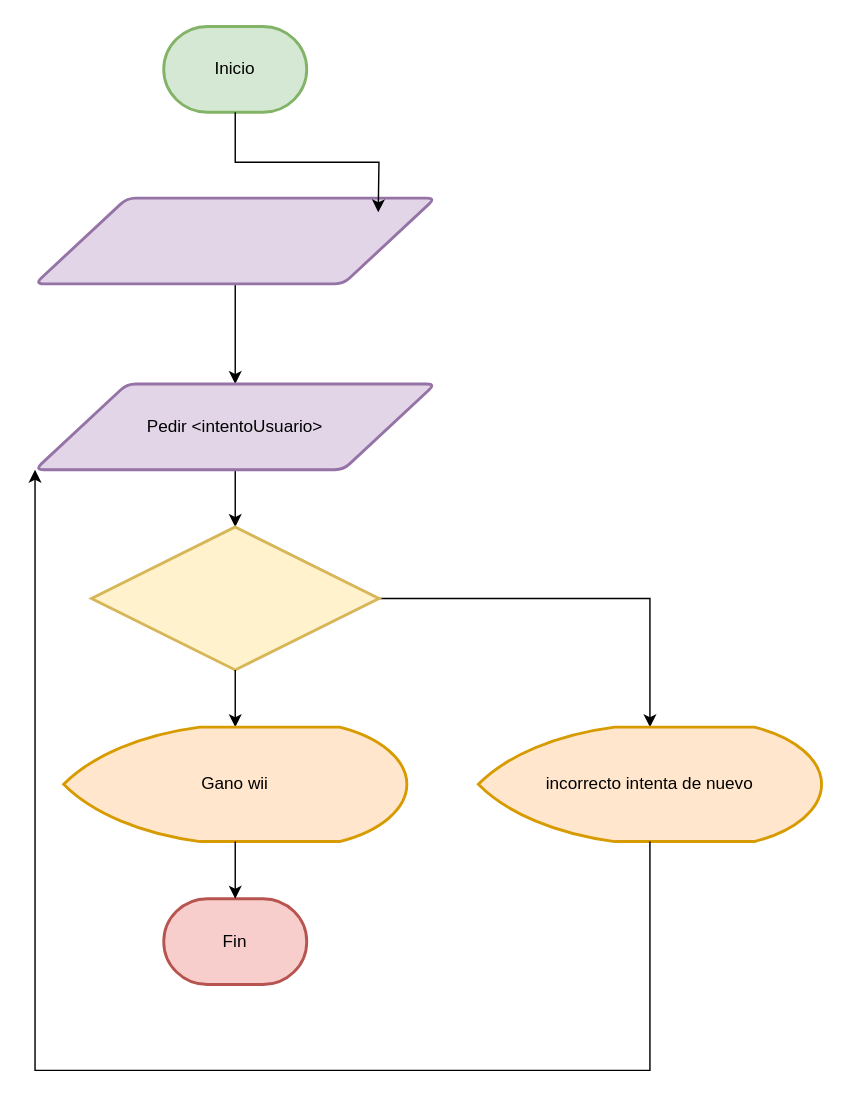
Image size: 848x1107. Some labels were removed from this diagram. Here are the shapes that lost their labels. From the top down, the centre of each, then its label:
At pixel 234 240: "Pedir <numeroSecreto>".
At pixel 234 598: "Es el numeroSecreto = IntentoUsuario ?".
